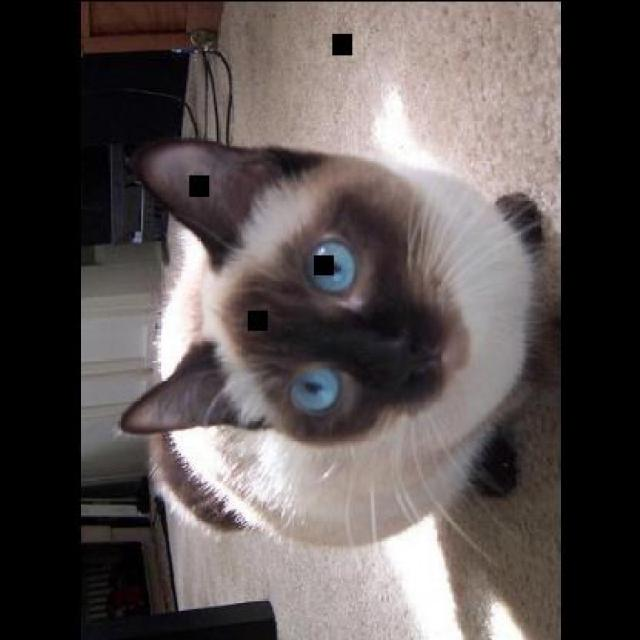unauthorized: (117, 134, 558, 552)
